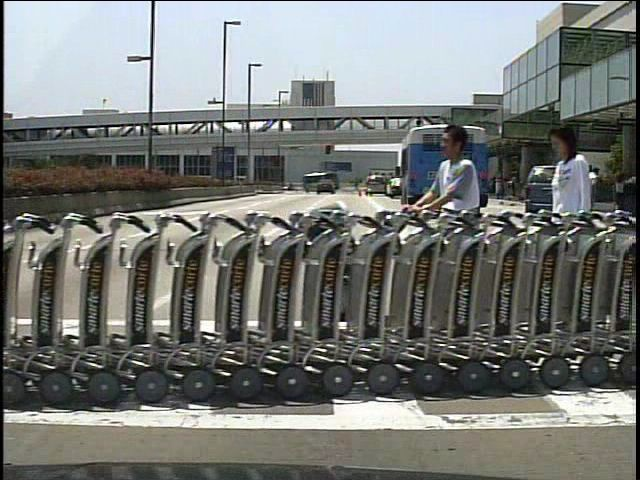person: (402, 123, 497, 365), (537, 116, 607, 329), (582, 165, 603, 215), (579, 163, 597, 218), (354, 176, 362, 196)
